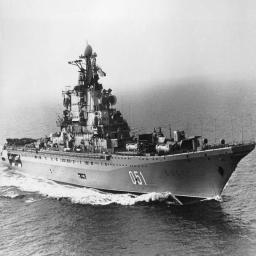Portanaves: (1, 35, 255, 211)
